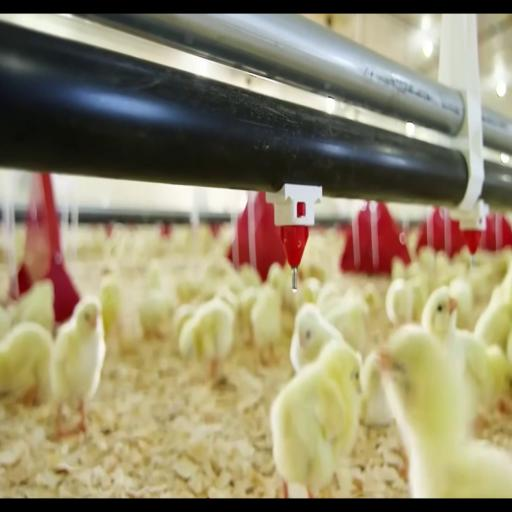chick: (380, 326, 511, 498), (271, 341, 360, 497), (422, 287, 488, 424), (50, 297, 105, 438), (179, 298, 234, 382), (0, 323, 52, 405), (290, 304, 345, 372), (324, 296, 369, 352), (251, 284, 281, 364), (361, 351, 393, 426), (475, 288, 511, 351), (12, 280, 54, 333), (138, 288, 174, 339), (487, 346, 511, 413), (100, 271, 122, 340), (386, 279, 413, 326), (450, 277, 473, 328), (345, 282, 382, 312), (239, 288, 258, 345), (343, 284, 381, 312), (409, 272, 429, 321), (173, 305, 197, 340), (316, 282, 342, 313), (296, 278, 321, 309), (215, 287, 238, 315), (239, 264, 261, 286), (267, 263, 283, 292), (418, 246, 436, 271), (147, 260, 161, 289), (391, 257, 407, 280), (0, 307, 11, 339), (506, 330, 511, 364)
